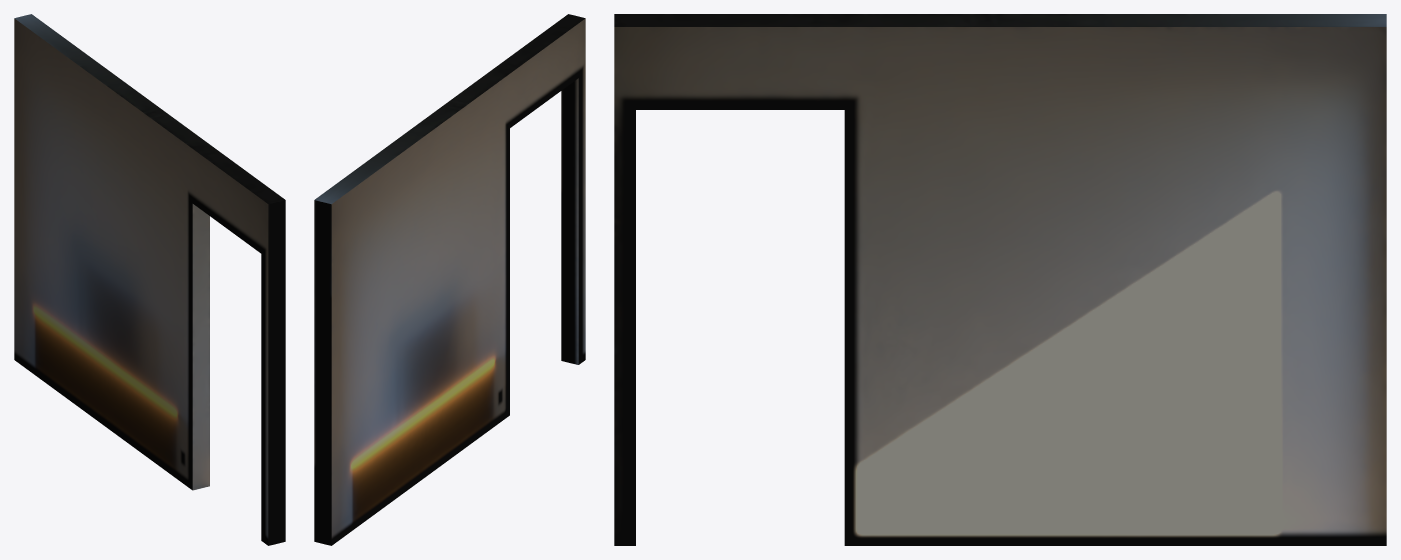
3 renders of one model, left to right at view 1: azimuth 30°, elevation 25°; view 2: azimuth 150°, elevation 25°; view 3: azimuth 270°, elevation 25°, orthographic. The views are drawn at different scales.
Visible parts, largest first — view 1: Cube.006; view 2: Cube.006; view 3: Cube.006.
Boxes of the visible parts, x1,y1,x2,y2 form: Cube.006: (14, 14, 285, 545); Cube.006: (314, 14, 585, 545); Cube.006: (614, 14, 1386, 545).
Size of the model in its own units: 0.133 by 2.5 by 3.37.
2 materials, 2 textured.
